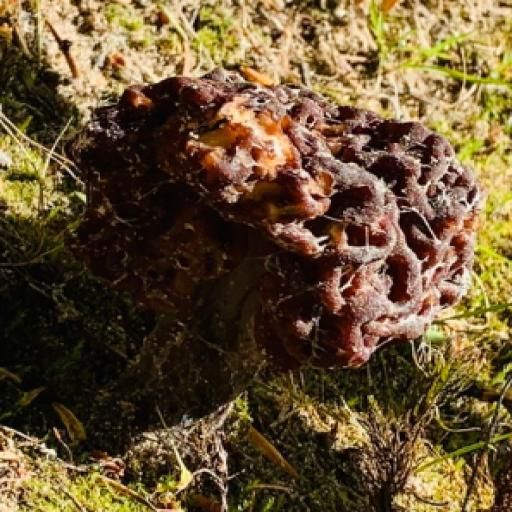mushroom: (45, 27, 509, 401)
